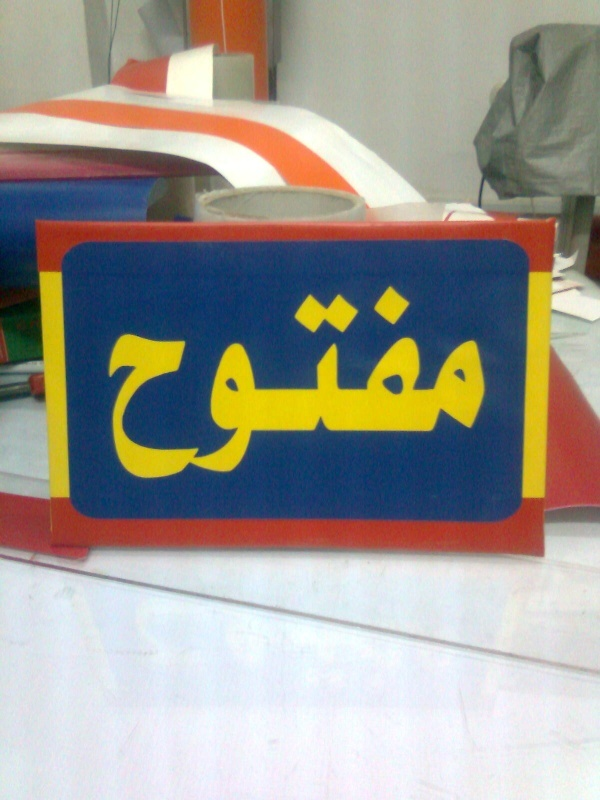text: (113, 284, 128, 481), (129, 284, 144, 481), (145, 284, 160, 481), (161, 284, 176, 481), (177, 284, 192, 481), (193, 284, 208, 481), (209, 284, 224, 481), (225, 284, 240, 481), (241, 284, 256, 481), (257, 284, 272, 481), (273, 284, 288, 481), (289, 284, 304, 481), (305, 284, 320, 481), (321, 284, 336, 481), (337, 284, 352, 481), (353, 284, 368, 481), (369, 284, 384, 481), (385, 284, 400, 481), (401, 284, 416, 481), (417, 284, 432, 481), (433, 284, 448, 481), (449, 284, 464, 481), (465, 284, 480, 481), (481, 284, 487, 481), (110, 284, 112, 481)
